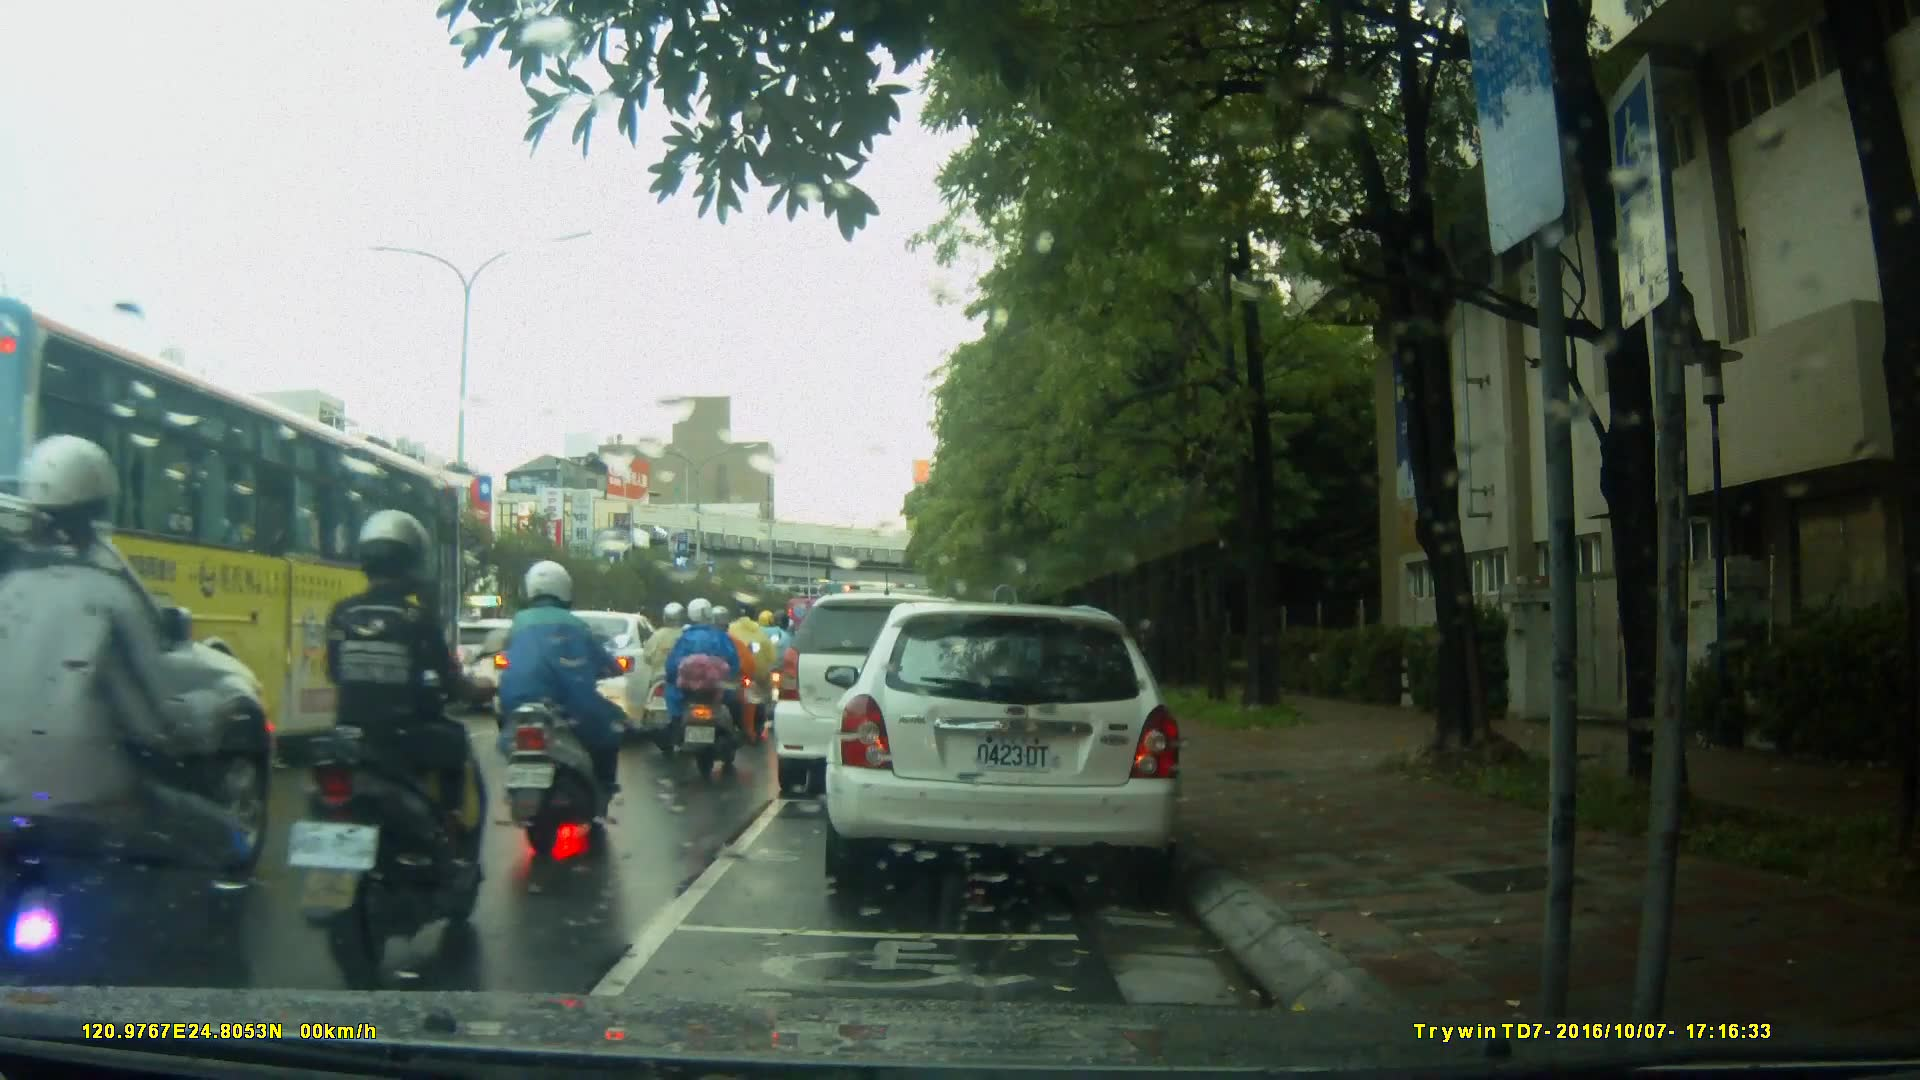rider: (1, 440, 281, 1037), (286, 508, 494, 963), (502, 551, 625, 862), (664, 597, 763, 780), (641, 597, 717, 762), (718, 594, 777, 738)
vehicle: (1, 304, 475, 778), (1, 480, 289, 945), (835, 594, 1194, 898), (776, 590, 1026, 784), (498, 608, 689, 740)
